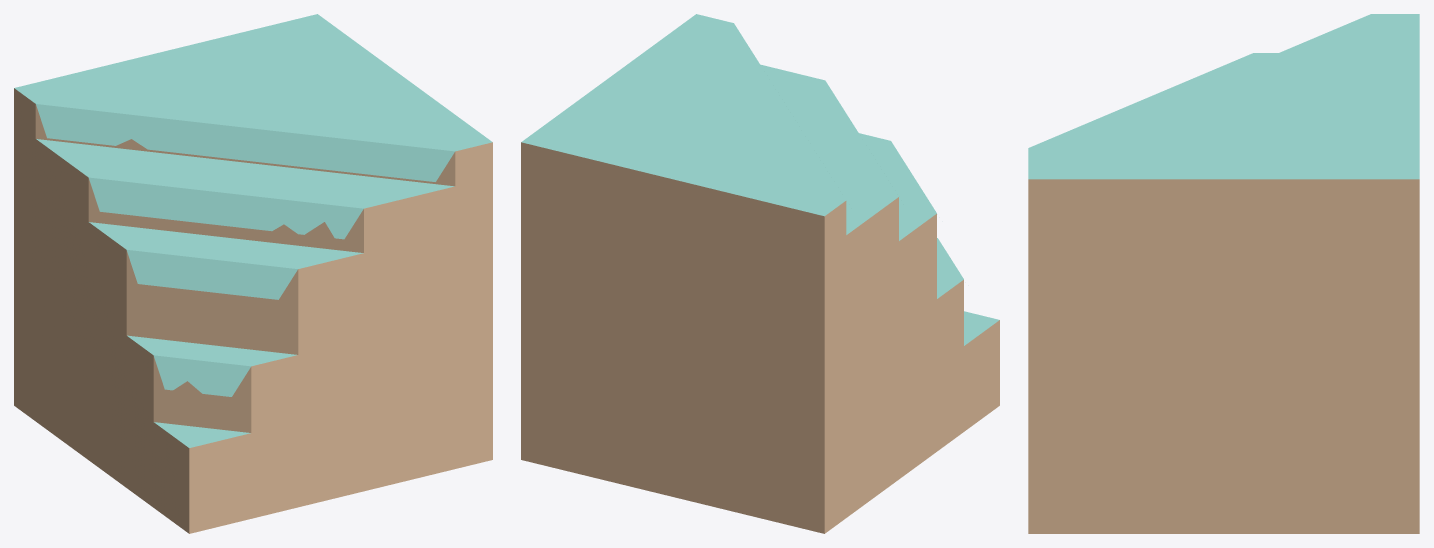
File: cliffBrown_stepsCornerInner.glb
3 renders of one model, left to right at view 1: azimuth 30°, elevation 25°; view 2: azimuth 150°, elevation 25°; view 3: azimuth 270°, elevation 25°, orthographic. The views are drawn at different scales.
Parts seen in each view (by area): view 1: cliffBrown_stepsCornerInner; view 2: cliffBrown_stepsCornerInner; view 3: cliffBrown_stepsCornerInner.
Part boxes in pixels (x1,y1,x2,y2): cliffBrown_stepsCornerInner: (14, 14, 492, 533); cliffBrown_stepsCornerInner: (521, 14, 999, 533); cliffBrown_stepsCornerInner: (1028, 14, 1419, 533).
Size of the model in its own units: 1 by 1 by 1.
